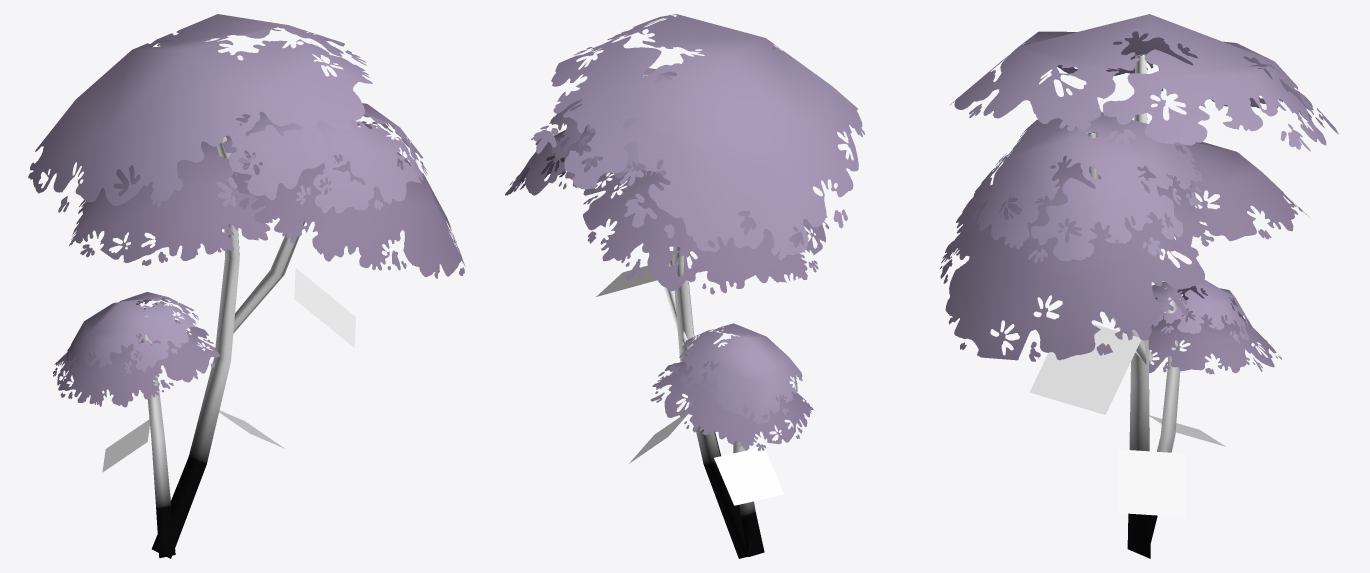
Rendered from Flower_MID1B.fbx.
3 renders of one model, left to right at view 1: azimuth 30°, elevation 25°; view 2: azimuth 150°, elevation 25°; view 3: azimuth 270°, elevation 25°, orthographic. The views are drawn at different scales.
Visible parts, largest first — view 1: MID_1B; view 2: MID_1B; view 3: MID_1B.
Boxes of the visible parts, bbox=[...] form: MID_1B: bbox=[28, 14, 465, 558]; MID_1B: bbox=[505, 14, 864, 558]; MID_1B: bbox=[940, 14, 1338, 558].
Size of the model in its own units: 4.33 by 5.66 by 3.99.
2 materials, 1 textured.
